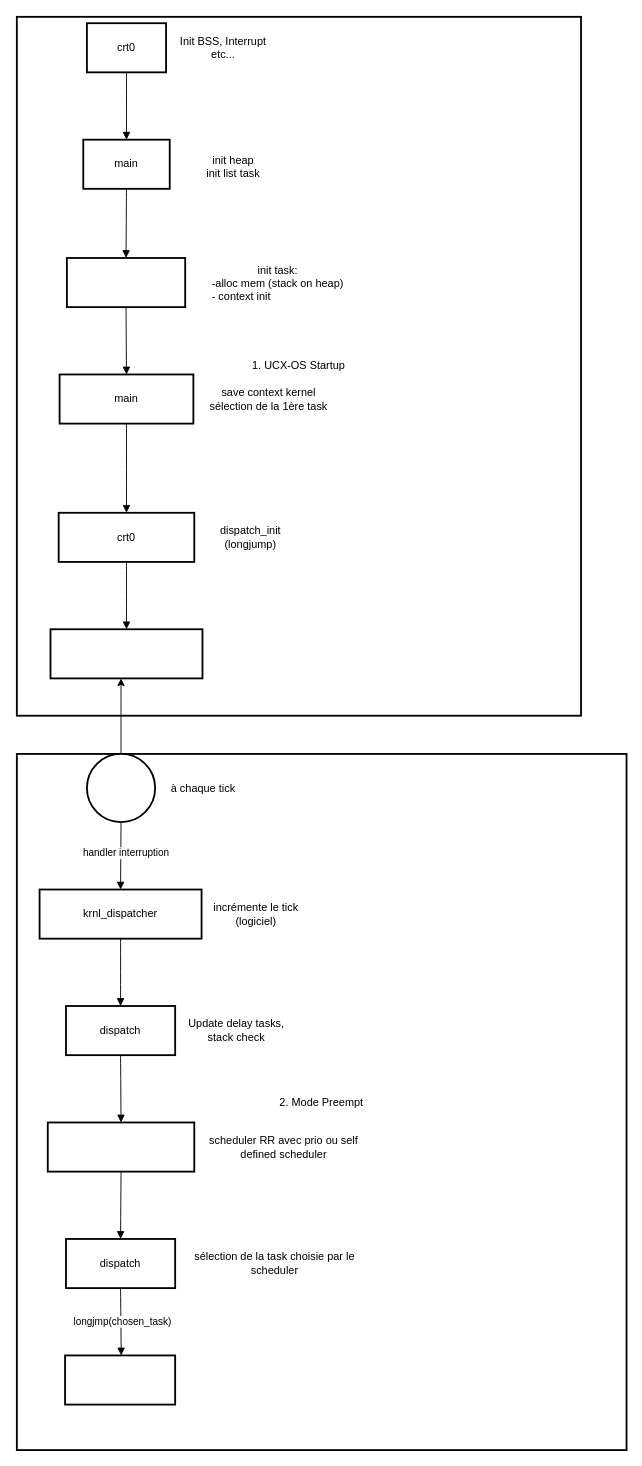
The diagram is 642 pixels wide and 1466 high, and some of its shapes have lost their labels. The shapes that lost their labels are listed below. From the top down, each one's centre as x and y in pixels, then its label:
At (x=126, y=282): "app_main".
At (x=126, y=653): "Premiere_Task".
At (x=121, y=788): "Interrupt".
At (x=120, y=1146): "krnl_schedule".
At (x=120, y=1379): "run_task".
